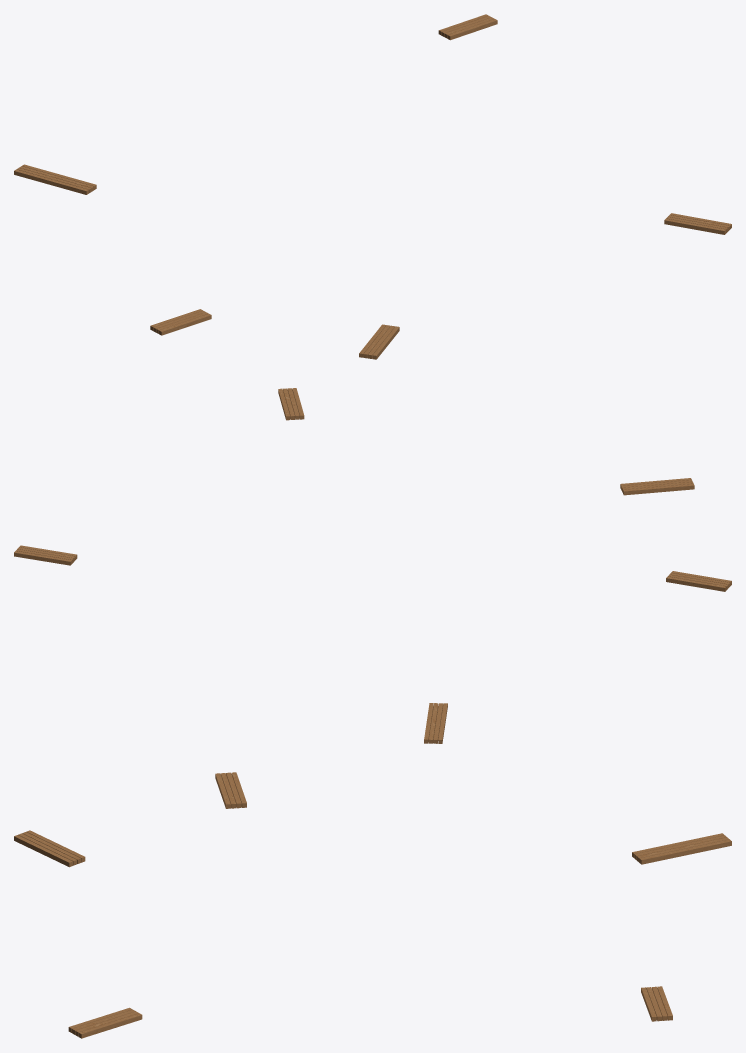
Rendered from mesh_tut_benches.glb.
The picture shows the model from 3 angles, top to bottom: view 1: azimuth 30°, elevation 25°; view 2: azimuth 150°, elevation 25°; view 3: azimuth 270°, elevation 25°; orthographic projection. The views are drawn at different scales.
Parts seen in each view (by area): view 1: mesh_tut_benches; view 2: mesh_tut_benches; view 3: mesh_tut_benches.
Boxes of the visible parts, <box> form: mesh_tut_benches: <box>14,14,731,359</box>; mesh_tut_benches: <box>14,388,731,743</box>; mesh_tut_benches: <box>14,772,731,1038</box>.
Bounding box in the file's own units: 12.33 × 1.48 × 12.57.
Materials: 1 (1 with a texture image).
